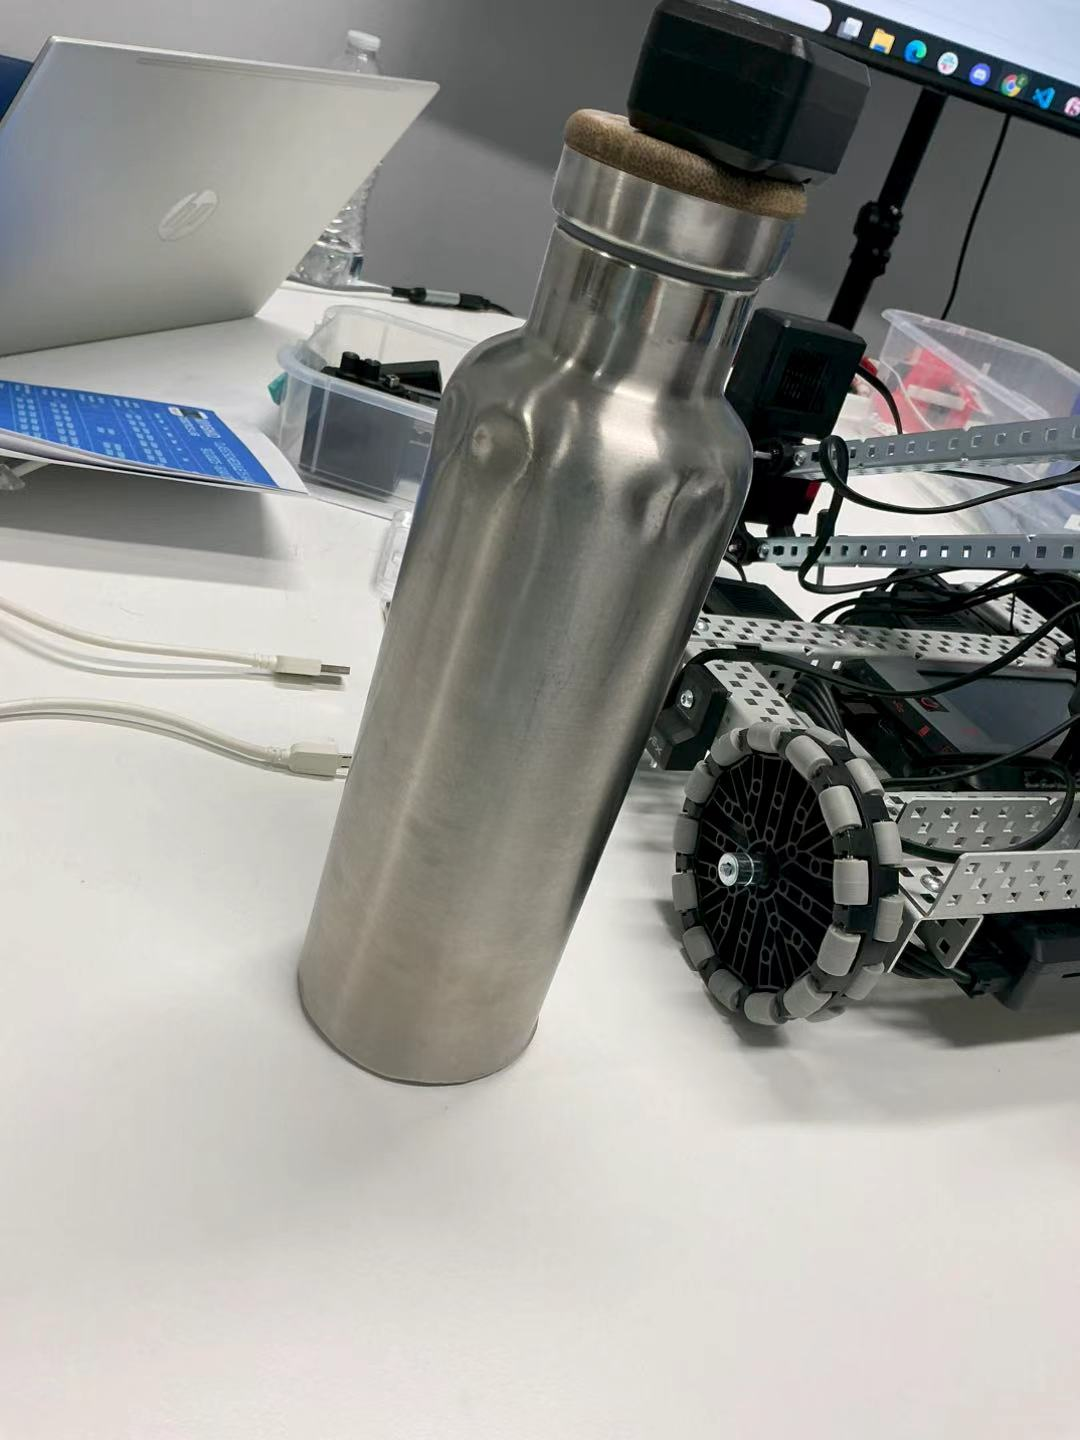Water_Bottle: (269, 56, 804, 1110)
